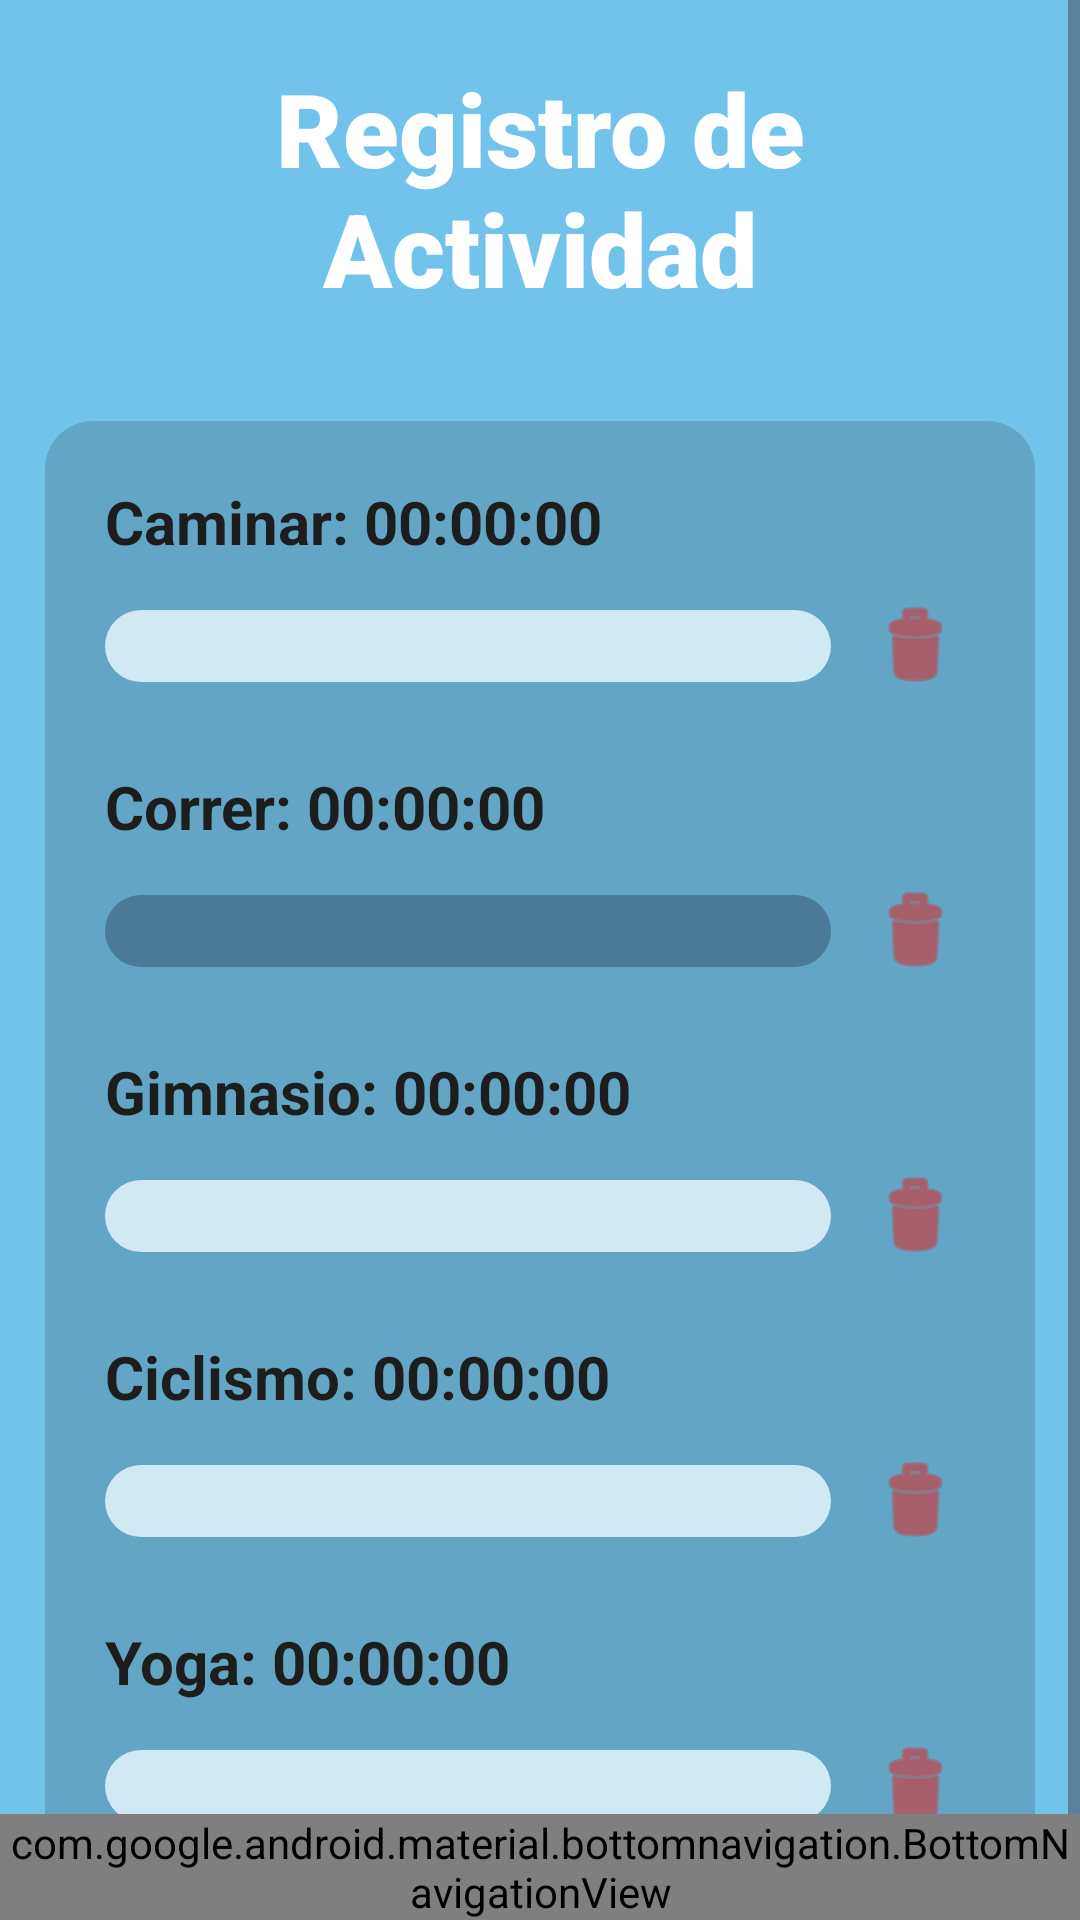

Where icons sit on this 1080px×1920px app screen, as (x1,y1,x2,y2):
Reiniciar Caminar: (889,607,942,682)
Reiniciar Ciclismo: (889,1462,942,1537)
Reiniciar Correr: (889,892,942,967)
Reiniciar Gimnasio: (889,1177,942,1252)
